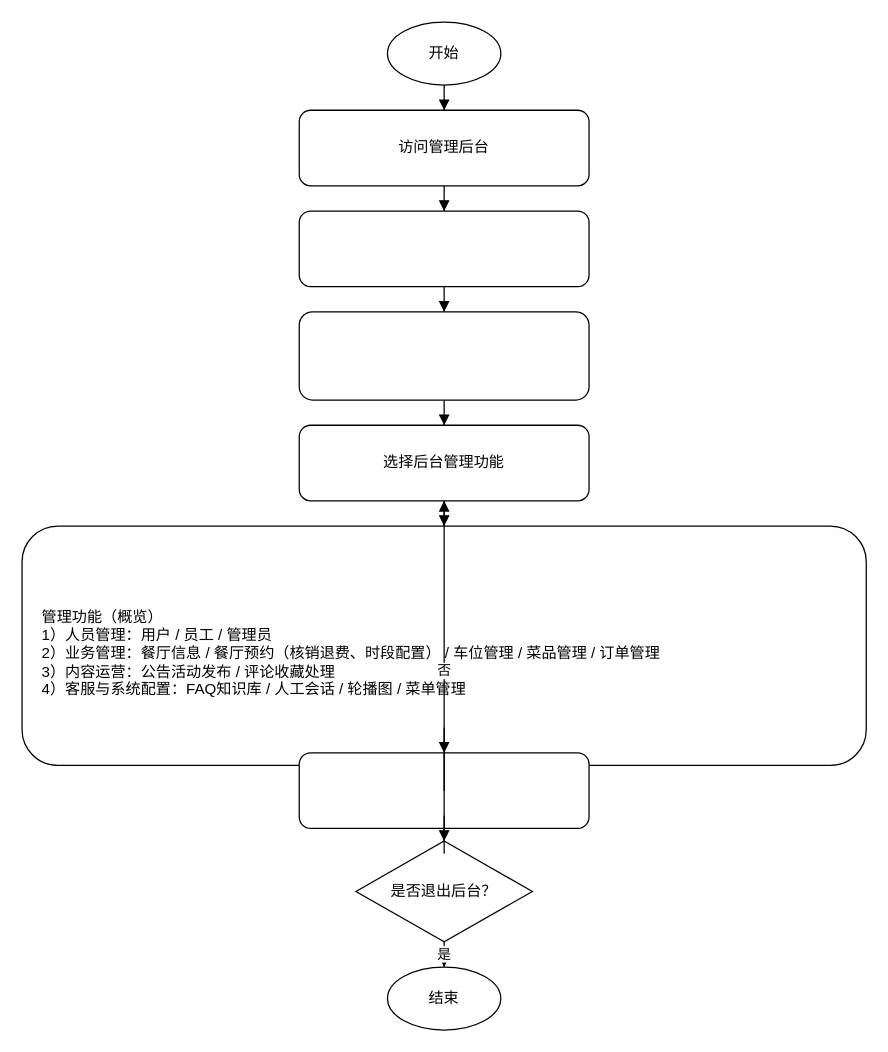
Image size: 888x1052. Some labels were removed from this diagram. The box of each missing label's shape, as (x1, y1, x2, y2) in pixels:
登录认证（管理员/员工）: (298, 210, 589, 287)
返回看板 / 继续管理: (298, 752, 589, 828)
进入管理首页看板 统计/图表/总数: (298, 311, 589, 400)
